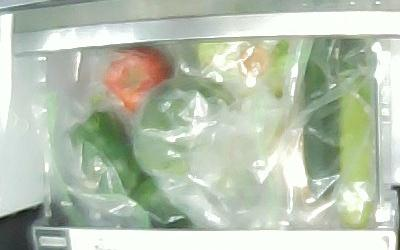apple_vinyl: (103, 46, 173, 112)
broccoli_vinyl: (135, 78, 235, 175)
cucumber_vinyl: (339, 37, 373, 229), (303, 38, 342, 200)
lettuce_vinyl: (199, 38, 288, 98)
paprika_vinyl: (69, 96, 140, 195), (132, 177, 192, 228)
